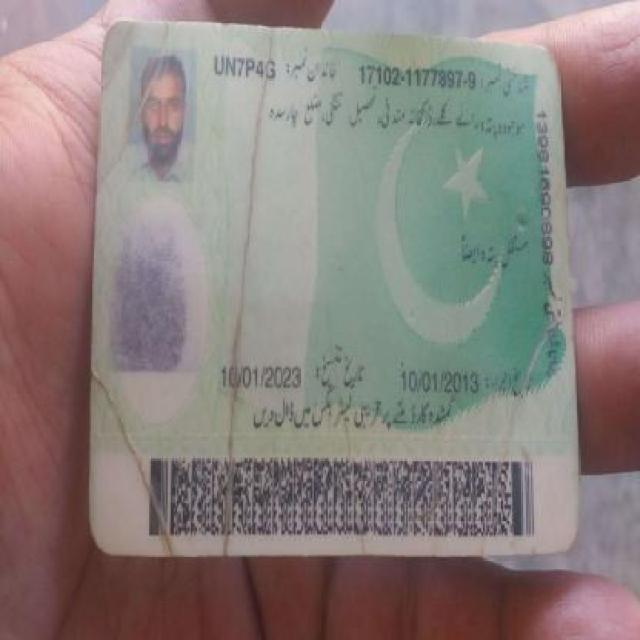Back: (83, 14, 582, 560)
